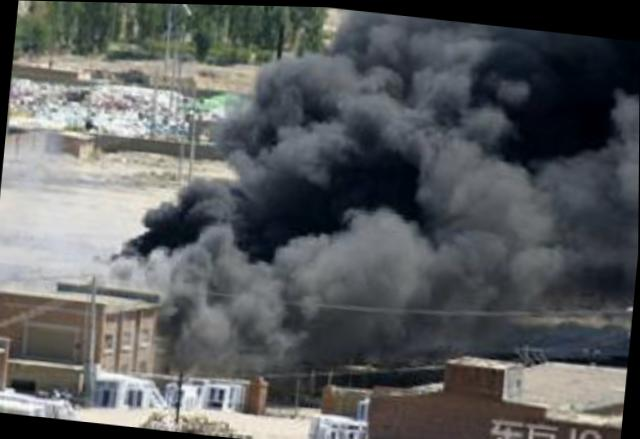smoke: (323, 8, 639, 181), (320, 156, 635, 304), (211, 45, 338, 278), (209, 269, 332, 365), (123, 164, 216, 281), (437, 291, 585, 347), (330, 276, 435, 346)
